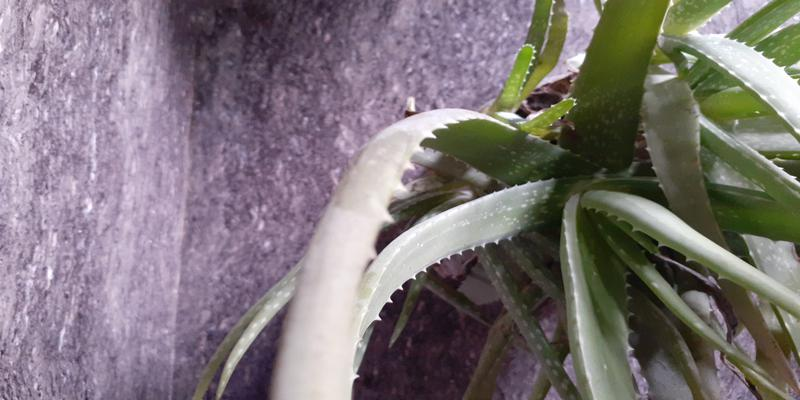Aloevera: (347, 41, 800, 378)
